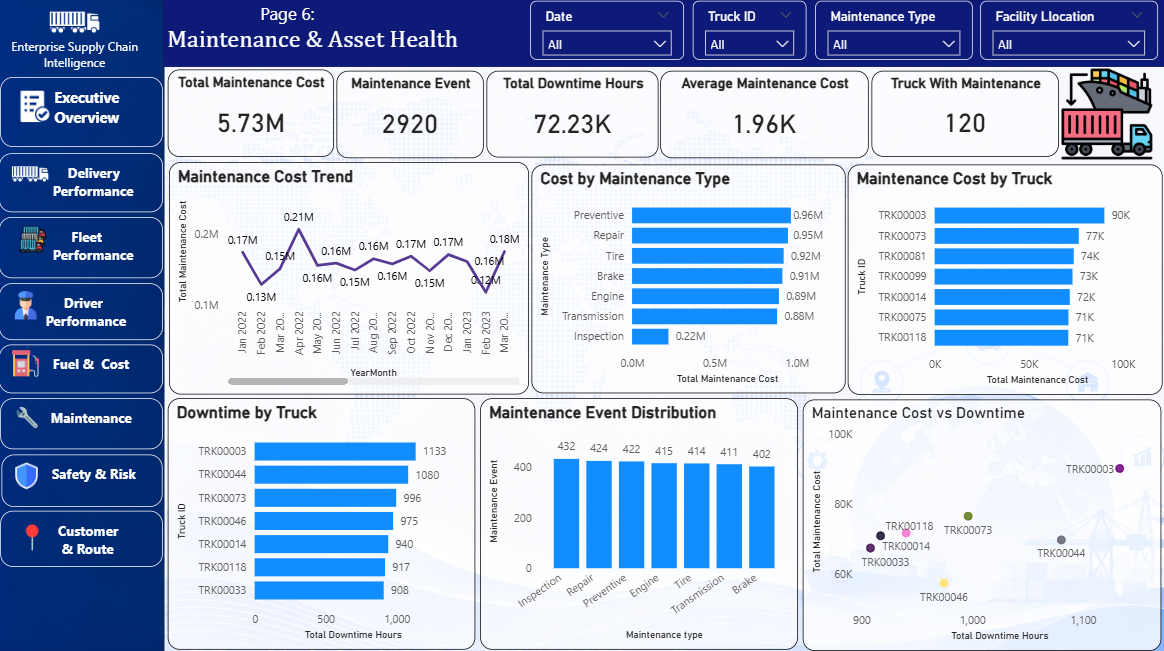

The dashboard page shown, as its layout file describes it:
{"tool":"powerbi","page":{"name":"Maintenance","canvas":[1280,720],"ordinal":5},"visuals":[{"type":"card","title":"Maintenance Event","fields":{"Values":["All Measures.Maintenance Event"]},"box":[370.3,80.9,161.9,96.1],"z":0,"group":"g10"},{"type":"group","id":"g1","title":"Group 1","box":[0,171.9,179.8,64.5],"z":0},{"type":"lineChart","title":"Maintenance Cost  Trend","fields":{"Y":["All Measures.Total Maintenance Cost"],"Category":["Dim_Date.YearMonth"]},"box":[186.8,181.4,395.2,255.2],"z":0,"group":"g11"},{"type":"clusteredBarChart","title":"Downtime by Truck","fields":{"Y":["All Measures.Total Downtime Hours"],"Category":["DimTrucks.truck_id"]},"box":[185.5,440,337.5,275.8],"z":0,"group":"g12"},{"type":"textbox","box":[2.7,502.6,177,57.6],"z":0,"group":"g4"},{"type":"image","box":[1.4,0,163.3,54.9],"z":1000,"group":"g3"},{"type":"card","title":"Total Maintenance Cost","fields":{"Values":["All Measures.Total Maintenance Cost"]},"box":[185.2,79.6,182.3,96.1],"z":1000,"group":"g10"},{"type":"group","id":"g2","title":"Group 3","box":[1.4,88.3,178.4,76.8],"z":1000},{"type":"clusteredBarChart","title":"Maintenance Cost by Truck","fields":{"Category":["DimTrucks.truck_id"],"Y":["All Measures.Total Maintenance Cost"]},"box":[931.9,184.1,345.8,252.5],"z":1000,"group":"g11"},{"type":"clusteredColumnChart","title":"Maintenance Event Distribution","fields":{"Category":["FactMaintenanceRecords.maintenance_type"],"Y":["All Measures.Maintenance Event"]},"box":[528.5,440,348.5,275.8],"z":1000,"group":"g12"},{"type":"image","box":[10.9,510.8,38.4,30.2],"z":1000,"group":"g4"},{"type":"group","id":"g3","title":"Group 4","box":[1.4,0,163.3,87.8],"z":2000},{"type":"textbox","box":[1.4,40.3,163.3,47.6],"z":2000,"group":"g3"},{"type":"card","title":"Total Downtime Hours","fields":{"Values":["All Measures.Total Downtime Hours"]},"box":[534.9,80.9,189.1,94.9],"z":2000,"group":"g10"},{"type":"clusteredBarChart","title":"Cost by Maintenance Type","fields":{"Category":["FactMaintenanceRecords.maintenance_type"],"Y":["All Measures.Total Maintenance Cost"]},"box":[584.7,184.1,344.4,251.1],"z":2000,"group":"g11"},{"type":"scatterChart","title":"Maintenance Cost vs Downtime","fields":{"X":["All Measures.Total Downtime Hours"],"Y":["All Measures.Total Maintenance Cost"],"Series":["DimTrucks.truck_id"]},"box":[882.5,441.4,393.9,275.8],"z":2000,"group":"g12"},{"type":"card","title":"Average Maintenance Cost","fields":{"Values":["All Measures.Average Maintenance Cost"]},"box":[725.4,80.9,228.6,96.1],"z":3000,"group":"g10"},{"type":"group","id":"g4","title":"Group 7","box":[2.7,502.6,177,57.6],"z":3000},{"type":"textbox","box":[1.4,564.4,178.4,61.7],"z":3000,"group":"g6"},{"type":"card","title":"Truck With Maintenance","fields":{"Values":["All Measures.Truck With Mentenance"]},"box":[957.8,81,205.8,94.7],"z":4000,"group":"g10"},{"type":"group","id":"g5","title":"Group 8","box":[1.4,440.9,178.4,56.3],"z":4000},{"type":"textbox","box":[1.4,440.9,178.4,56.3],"z":4000,"group":"g5"},{"type":"textbox","box":[0,382,179.8,53.4],"z":5000,"group":"g7"},{"type":"group","id":"g6","title":"Group 9","box":[1.4,564.4,178.4,61.7],"z":5000},{"type":"textbox","box":[1.4,88.3,178.4,76.8],"z":6000,"group":"g2"},{"type":"textbox","box":[0,314.2,179.8,62.5],"z":6000,"group":"g9"},{"type":"group","id":"g7","title":"Group 10","box":[0,380.5,179.8,54.9],"z":6000},{"type":"group","id":"g8","title":"Group 11","box":[0,241.8,179.8,67.2],"z":7000},{"type":"group","id":"g9","title":"Group 12","box":[0,314.2,179.8,62.5],"z":8000},{"type":"textbox","box":[179.8,0,1100.5,76.8],"z":9000},{"type":"image","box":[1152.7,76.8,127.6,102.9],"z":10000},{"type":"textbox","box":[0,241.8,179.8,67.2],"z":10000,"group":"g8"},{"type":"group","id":"g10","title":"Group 2","box":[185.2,79.6,978.4,97.4],"z":11000},{"type":"slicer","fields":{"Values":["DimTrucks.truck_id"]},"box":[761.6,4.1,124.9,64.5],"z":12000},{"type":"slicer","fields":{"Values":["FactMaintenanceRecords.maintenance_type"]},"box":[896.1,4.1,172.9,64.5],"z":13000},{"type":"textbox","box":[0,171.9,179.8,64.5],"z":13000,"group":"g13"},{"type":"image","box":[15.5,102.8,48.5,34.8],"z":13003,"group":"g2"},{"type":"image","box":[1.4,174.6,65.9,39.8],"z":13007,"group":"g13"},{"type":"slicer","fields":{"Values":["Dim_Date.Date Hierarchy.Date","Dim_Date.Date Hierarchy.Year","Dim_Date.Date Hierarchy.Month Name"]},"box":[583.2,4.1,168.8,64.5],"z":14000},{"type":"slicer","fields":{"Values":["FactMaintenanceRecords.facility_location"]},"box":[1077.2,4.1,194.9,64.5],"z":15000},{"type":"group","id":"g11","title":"Group 6","box":[186.8,181.4,1090.9,255.2],"z":16000},{"type":"group","id":"g12","title":"Group 13","box":[185.5,440,1090.9,277.2],"z":17000},{"type":"group","id":"g13","title":"Group 5","box":[0,171.9,179.8,64.5],"z":27001,"group":"g1"},{"type":"image","box":[13.7,450.5,34.3,23.3],"z":27002,"group":"g5"},{"type":"image","box":[13.7,315.6,31.6,45.3],"z":27006,"group":"g9"},{"type":"image","box":[2.7,251.4,68.6,30.2],"z":27007,"group":"g8"},{"type":"image","box":[20.6,579.3,32,29.2],"z":27008,"group":"g6"},{"type":"image","box":[12.7,380.5,33.3,44],"z":27010,"group":"g7"}]}

Visuals, with their boxes on the page's 1280x720 design canvas (x1, y1, x2, y2). These are canvas units, not pixel positions in the 1164x651 screenshot, which may show the page scaled, cropped or inside an application window:
"Maintenance Event" card: l=370, t=81, r=532, b=177
"Group 1" group: l=0, t=172, r=180, b=236
"Maintenance Cost  Trend" lineChart: l=187, t=181, r=582, b=437
"Downtime by Truck" clusteredBarChart: l=186, t=440, r=523, b=716
textbox: l=3, t=503, r=180, b=560
image: l=1, t=0, r=165, b=55
"Total Maintenance Cost" card: l=185, t=80, r=368, b=176
"Group 3" group: l=1, t=88, r=180, b=165
"Maintenance Cost by Truck" clusteredBarChart: l=932, t=184, r=1278, b=437
"Maintenance Event Distribution" clusteredColumnChart: l=528, t=440, r=877, b=716
image: l=11, t=511, r=49, b=541
"Group 4" group: l=1, t=0, r=165, b=88
textbox: l=1, t=40, r=165, b=88
"Total Downtime Hours" card: l=535, t=81, r=724, b=176
"Cost by Maintenance Type" clusteredBarChart: l=585, t=184, r=929, b=435
"Maintenance Cost vs Downtime" scatterChart: l=882, t=441, r=1276, b=717
"Average Maintenance Cost" card: l=725, t=81, r=954, b=177
"Group 7" group: l=3, t=503, r=180, b=560
textbox: l=1, t=564, r=180, b=626
"Truck With Maintenance" card: l=958, t=81, r=1164, b=176
"Group 8" group: l=1, t=441, r=180, b=497
textbox: l=1, t=441, r=180, b=497
textbox: l=0, t=382, r=180, b=435
"Group 9" group: l=1, t=564, r=180, b=626
textbox: l=1, t=88, r=180, b=165
textbox: l=0, t=314, r=180, b=377
"Group 10" group: l=0, t=380, r=180, b=435
"Group 11" group: l=0, t=242, r=180, b=309
"Group 12" group: l=0, t=314, r=180, b=377
textbox: l=180, t=0, r=1280, b=77
image: l=1153, t=77, r=1280, b=180
textbox: l=0, t=242, r=180, b=309
"Group 2" group: l=185, t=80, r=1164, b=177
slicer - DimTrucks.truck_id: l=762, t=4, r=886, b=69
slicer - FactMaintenanceRecords.maintenance_type: l=896, t=4, r=1069, b=69
textbox: l=0, t=172, r=180, b=236
image: l=16, t=103, r=64, b=138
image: l=1, t=175, r=67, b=214
slicer - Dim_Date.Date Hierarchy.Date x Dim_Date.Date Hierarchy.Year: l=583, t=4, r=752, b=69
slicer - FactMaintenanceRecords.facility_location: l=1077, t=4, r=1272, b=69
"Group 6" group: l=187, t=181, r=1278, b=437
"Group 13" group: l=186, t=440, r=1276, b=717
"Group 5" group: l=0, t=172, r=180, b=236
image: l=14, t=450, r=48, b=474
image: l=14, t=316, r=45, b=361
image: l=3, t=251, r=71, b=282
image: l=21, t=579, r=53, b=608
image: l=13, t=380, r=46, b=424
